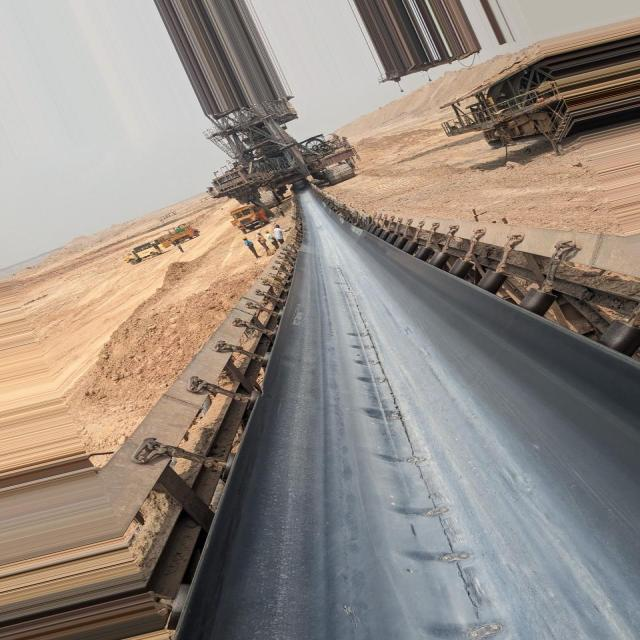Human: (242, 237, 262, 259), (274, 224, 291, 244), (257, 231, 271, 253), (264, 230, 280, 248)
Roller: (374, 227, 640, 356)
patch work: (325, 264, 499, 625)
